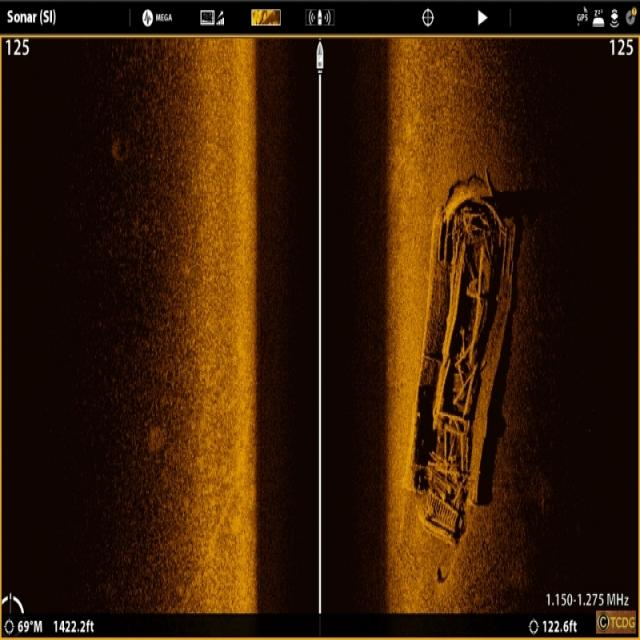ship: (412, 169, 506, 548)
